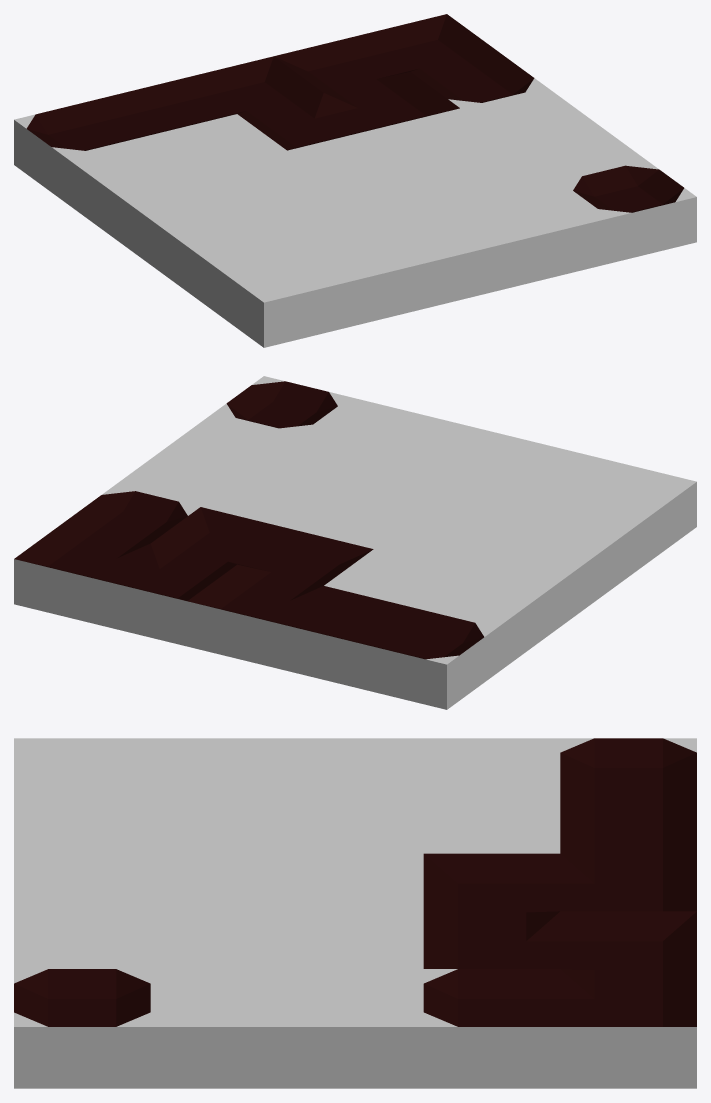
The picture shows the model from 3 angles, top to bottom: view 1: azimuth 30°, elevation 25°; view 2: azimuth 150°, elevation 25°; view 3: azimuth 270°, elevation 25°; orthographic projection. The views are drawn at different scales.
Parts seen in each view (by area): view 1: block.0.0_block.10235, block.3.0_block.10246, block.1.0_block.10239, block.4.0_Cube.025, block.2.0_block.10243, block.0.2_block.10237, block.0.3_block.10238, block.0.1_block.10236, ending.0.4_ending.1205, corner.4.4_corner.3024, corner.2.4_corner.3021, corner.3.4_corner.3023 (+13 smaller); view 2: ending.0.4_ending.1205, through.1.4_through.594, corner.4.4_corner.3024, corner.2.4_corner.3021, corner.3.4_corner.3023, block.0.0_block.10235, block.0.1_block.10236, block.0.2_block.10237, block.0.3_block.10238, corner.3.3_corner.3022, ending.4.3_ending.1206, corner.2.3_corner.3020 (+13 smaller); view 3: block.4.1_block.10250, ending.4.3_ending.1206, block.4.0_Cube.025, block.4.2_block.10251, corner.4.4_corner.3024, corner.2.3_corner.3020, corner.3.4_corner.3023, ending.0.4_ending.1205, block.2.1_block.10244, block.2.0_block.10243, block.2.2_block.10245, block.0.1_block.10236 (+13 smaller).
Boxes of the visible parts, <box> form: block.0.0_block.10235: <box>214,245,350,347</box>; block.3.0_block.10246: <box>474,181,610,284</box>; block.1.0_block.10239: <box>301,224,437,326</box>; block.4.0_Cube.025: <box>560,160,696,263</box>; block.2.0_block.10243: <box>387,202,523,305</box>; block.0.2_block.10237: <box>114,172,249,274</box>; block.0.3_block.10238: <box>64,135,200,237</box>; block.0.1_block.10236: <box>164,208,299,310</box>; ending.0.4_ending.1205: <box>14,98,147,201</box>; corner.4.4_corner.3024: <box>360,14,496,77</box>; corner.2.4_corner.3021: <box>187,56,323,119</box>; corner.3.4_corner.3023: <box>274,35,409,98</box>; ending.0.4_ending.1205: <box>360,607,496,709</box>; through.1.4_through.594: <box>273,586,409,688</box>; corner.4.4_corner.3024: <box>14,522,149,625</box>; corner.2.4_corner.3021: <box>187,565,323,667</box>; corner.3.4_corner.3023: <box>100,543,236,646</box>; block.0.0_block.10235: <box>561,460,696,563</box>; block.0.1_block.10236: <box>510,497,646,599</box>; block.0.2_block.10237: <box>461,534,596,636</box>; block.0.3_block.10238: <box>411,570,546,672</box>; corner.3.3_corner.3022: <box>151,507,286,570</box>; ending.4.3_ending.1206: <box>64,486,199,549</box>; corner.2.3_corner.3020: <box>237,528,373,591</box>; block.4.1_block.10250: <box>150,969,287,1088</box>; ending.4.3_ending.1206: <box>423,969,560,1088</box>; block.4.0_Cube.025: <box>14,969,150,1088</box>; block.4.2_block.10251: <box>287,969,423,1088</box>; corner.4.4_corner.3024: <box>560,969,696,1088</box>; corner.2.3_corner.3020: <box>423,853,560,926</box>; corner.3.4_corner.3023: <box>560,911,696,984</box>; ending.0.4_ending.1205: <box>560,738,696,811</box>; block.2.1_block.10244: <box>150,853,287,911</box>; block.2.0_block.10243: <box>14,853,150,911</box>; block.2.2_block.10245: <box>287,853,423,911</box>; block.0.1_block.10236: <box>150,738,287,795</box>.
Bounding box in the file's own units: 10 × 1 × 10.
